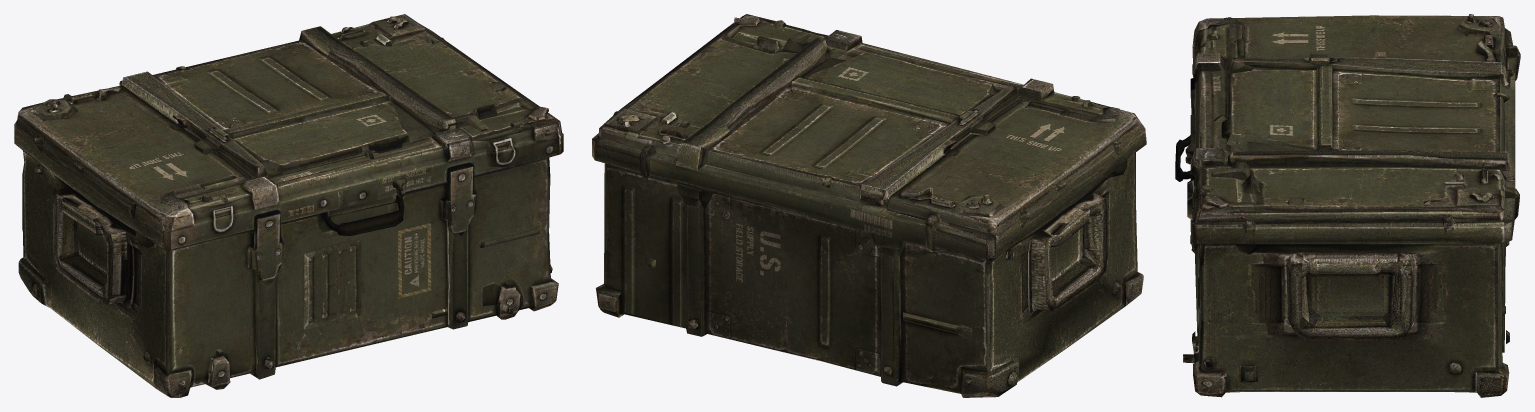
File: Military Storage crate.glb
3 renders of one model, left to right at view 1: azimuth 30°, elevation 25°; view 2: azimuth 150°, elevation 25°; view 3: azimuth 270°, elevation 25°, orthographic. The views are drawn at different scales.
Visible parts, largest first — view 1: tripo_node_bc056da8-81bc-465a-8728-7e66a0d2dc44; view 2: tripo_node_bc056da8-81bc-465a-8728-7e66a0d2dc44; view 3: tripo_node_bc056da8-81bc-465a-8728-7e66a0d2dc44.
Boxes of the visible parts, box(x1,y1,x2,y2) form: tripo_node_bc056da8-81bc-465a-8728-7e66a0d2dc44: box(14, 14, 563, 397); tripo_node_bc056da8-81bc-465a-8728-7e66a0d2dc44: box(592, 14, 1146, 397); tripo_node_bc056da8-81bc-465a-8728-7e66a0d2dc44: box(1175, 14, 1520, 397).
Size of the model in its own units: 0.9995 by 0.4829 by 0.7065.
1 material, 1 textured.
